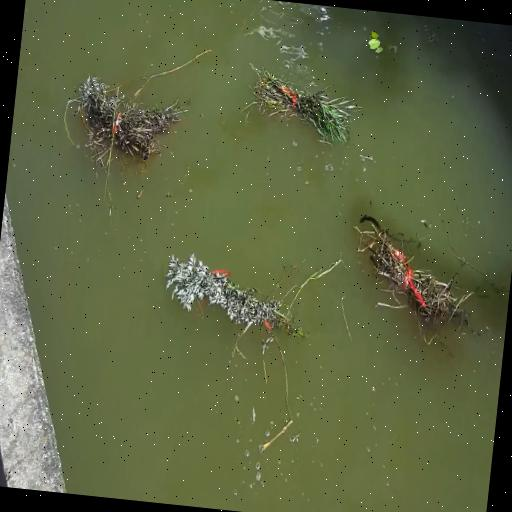twig: (358, 220, 470, 338), (163, 260, 309, 350), (66, 81, 177, 178), (250, 67, 366, 153), (360, 26, 406, 72)
